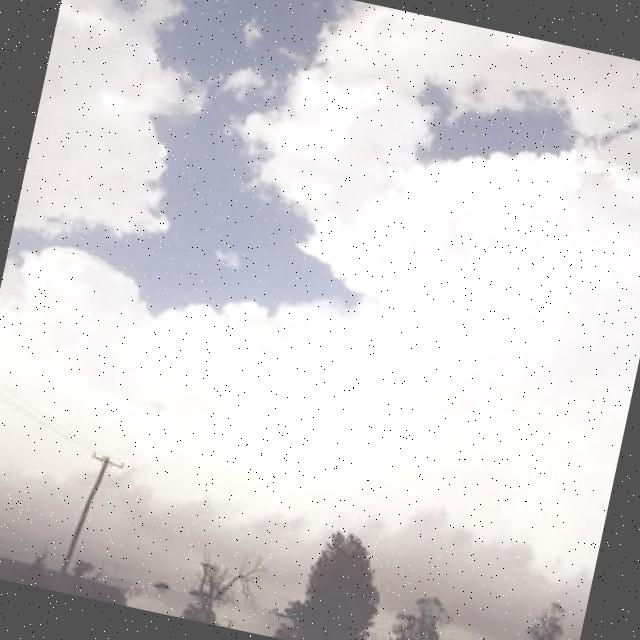St: (1, 1, 640, 496)
